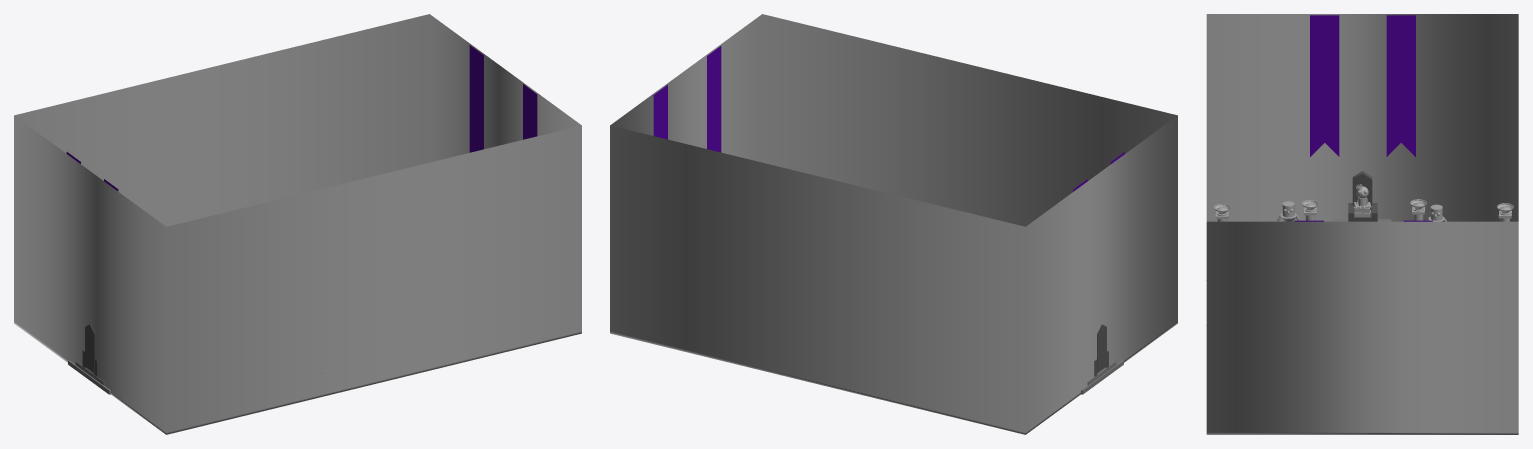
File: Room.fbx
3 renders of one model, left to right at view 1: azimuth 30°, elevation 25°; view 2: azimuth 150°, elevation 25°; view 3: azimuth 270°, elevation 25°, orthographic. The views are drawn at different scales.
Visible parts, largest first — view 1: Room, Flag_B1; view 2: Room, Flag_B1; view 3: Room, Flag_B1, Throne.
Part boxes in pixels (bbox=[...]): Room: bbox=[14, 14, 581, 434]; Flag_B1: bbox=[66, 45, 537, 191]; Room: bbox=[610, 14, 1177, 434]; Flag_B1: bbox=[653, 46, 1124, 191]; Room: bbox=[1206, 14, 1518, 434]; Flag_B1: bbox=[1294, 15, 1432, 221]; Throne: bbox=[1348, 171, 1377, 221].
Size of the model in its own units: 114 by 54.65 by 72.2.
